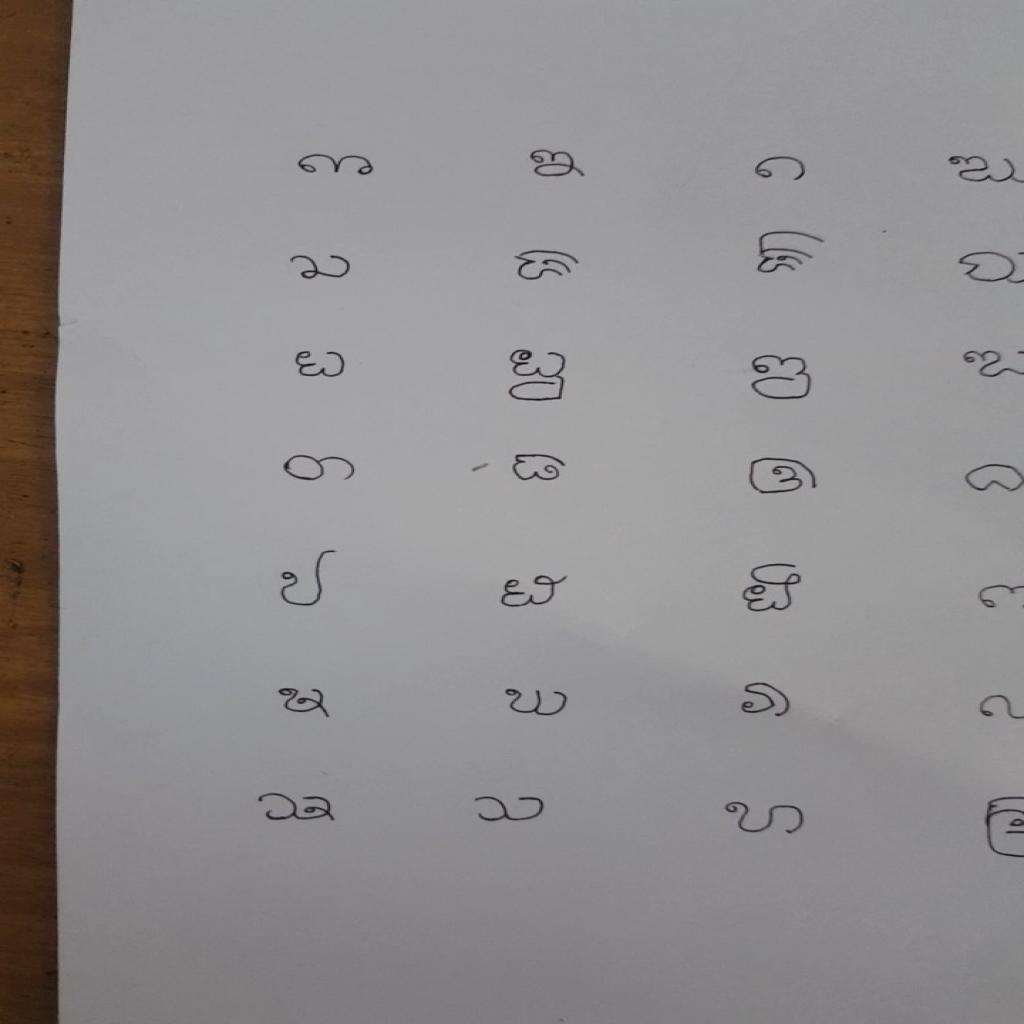LN001: (293, 152, 382, 180)
LN002: (524, 147, 593, 183)
LN003: (751, 155, 812, 185)
LN007: (286, 252, 358, 283)
LN008: (509, 247, 587, 284)
LN009: (751, 229, 831, 278)
LN013: (292, 347, 351, 383)
LN014: (502, 347, 573, 407)
LN015: (744, 353, 819, 405)
LN019: (279, 453, 362, 486)
LN020: (508, 452, 572, 485)
LN021: (745, 456, 826, 500)
LN025: (277, 547, 342, 611)
LN026: (496, 573, 575, 611)
LN027: (739, 562, 807, 616)
LN031: (274, 686, 337, 722)
LN032: (499, 687, 576, 721)
LN033: (736, 680, 799, 723)
LN037: (252, 791, 342, 826)
LN038: (468, 794, 550, 827)
LN039: (721, 800, 814, 839)
